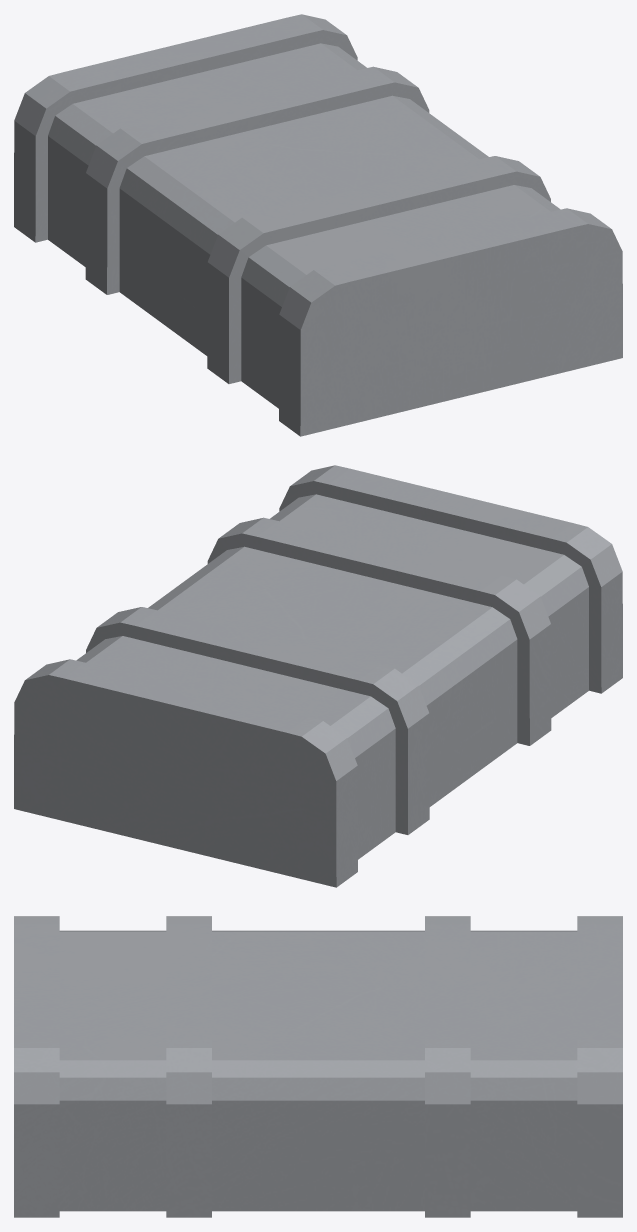
Rendered from chest_lid.fbx.
3 views of the same model, one above another, from view 1: azimuth 30°, elevation 25°; view 2: azimuth 150°, elevation 25°; view 3: azimuth 270°, elevation 25° (orthographic). The views are drawn at different scales.
Visible parts, largest first — view 1: chest-lid; view 2: chest-lid; view 3: chest-lid.
Part boxes in pixels (x1,y1,x2,y2): chest-lid: [14, 14, 622, 436]; chest-lid: [14, 465, 622, 887]; chest-lid: [14, 916, 622, 1217].
Bounding box in the file's own units: 130 × 55 × 200.
